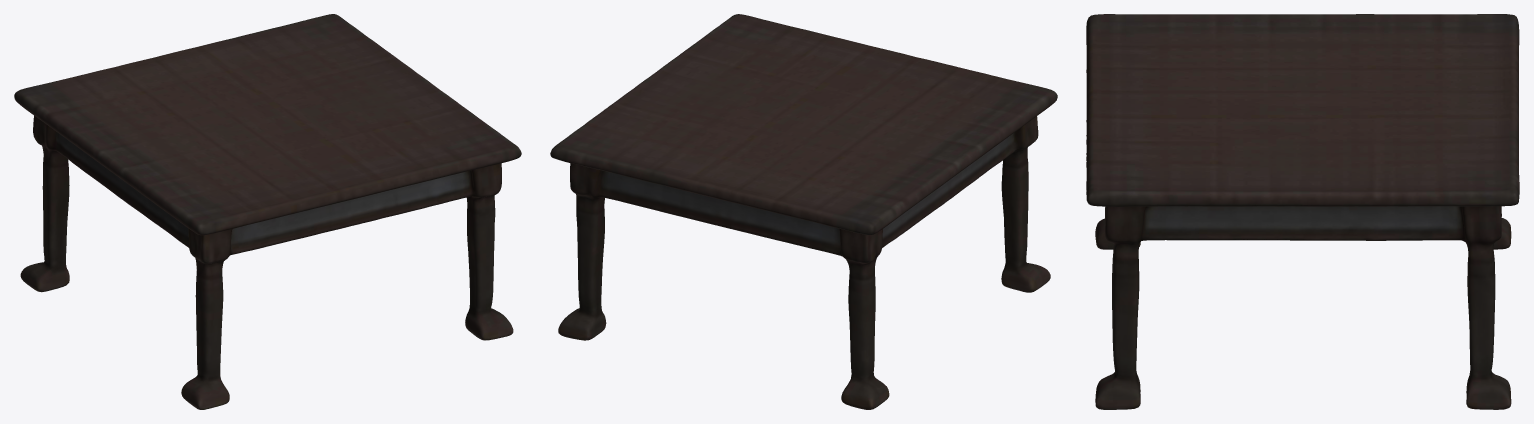
File: df655c35a8b0_table__3d_asset_0_g.fbx
3 renders of one model, left to right at view 1: azimuth 30°, elevation 25°; view 2: azimuth 150°, elevation 25°; view 3: azimuth 270°, elevation 25°, orthographic. The views are drawn at different scales.
Parts seen in each view (by area): view 1: high_poly; view 2: high_poly; view 3: high_poly.
Boxes of the visible parts, box(x1,y1,x2,y2) form: high_poly: box(14, 14, 521, 409); high_poly: box(550, 14, 1057, 409); high_poly: box(1086, 14, 1519, 409).
Size of the model in its own units: 99.72 by 56 by 100.
